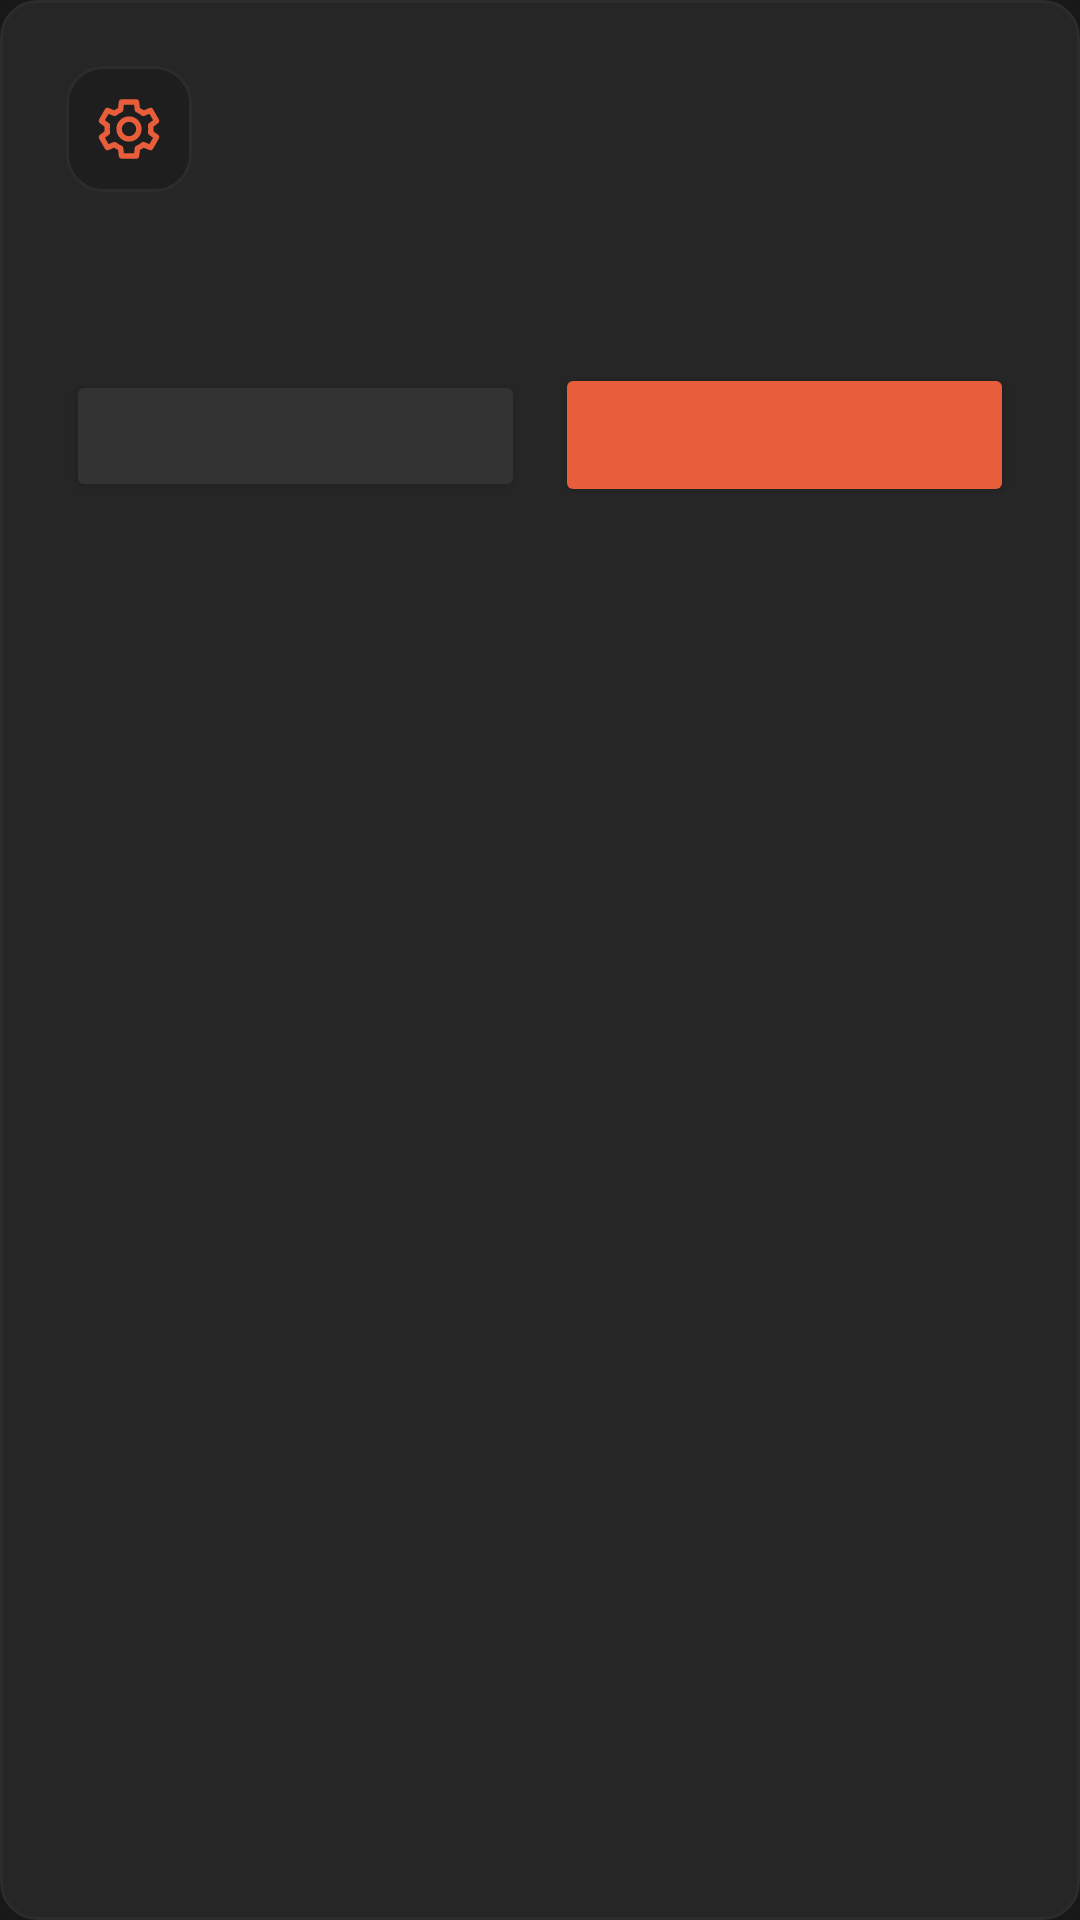

Named icons in this screenshot (1080×1920) and their bounding boxes, (x1, y1, x2, y2):
settings: (69, 69, 189, 189)
